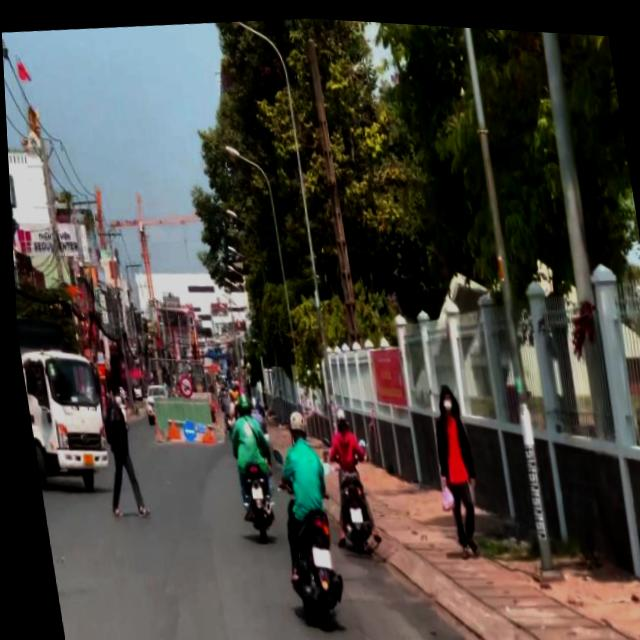Cac xe chi duoc re trai: (177, 416, 193, 442)
Cam xe oto: (174, 371, 190, 397)
